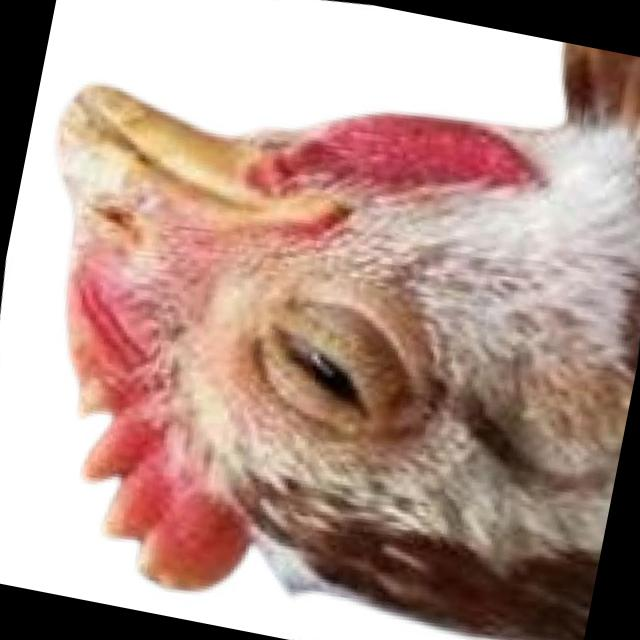Coryza: (223, 266, 428, 462)
